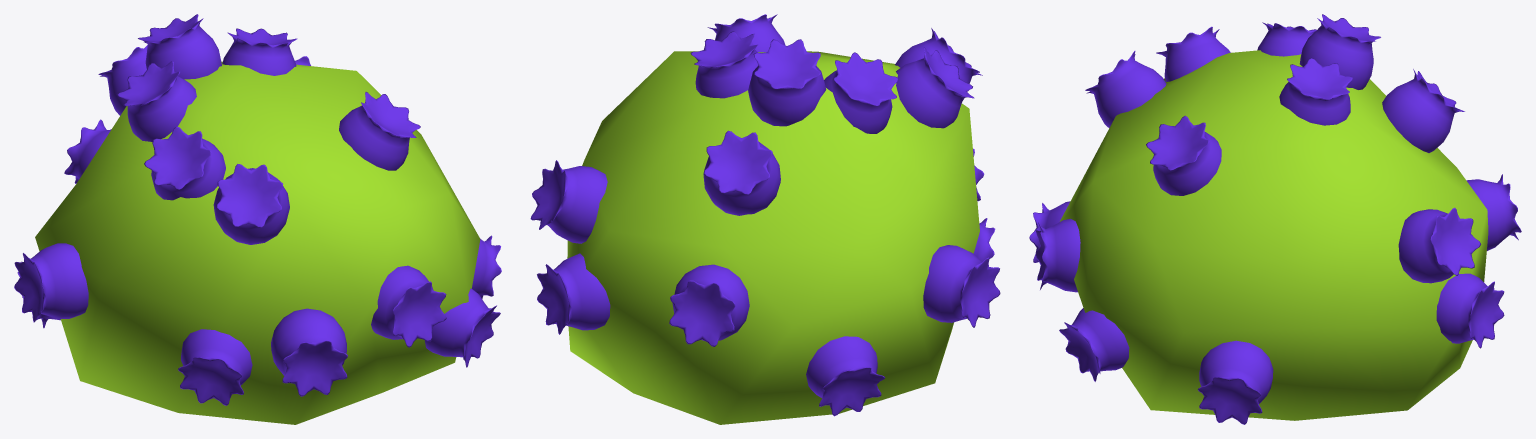
File: object_landscape_plant_berry_bush_small_001.glb
3 views of the same model, side by side, from view 1: azimuth 30°, elevation 25°; view 2: azimuth 150°, elevation 25°; view 3: azimuth 270°, elevation 25° (orthographic). The views are drawn at different scales.
Parts seen in each view (by area): view 1: object_landscape_plant_berry_bush_small_001; view 2: object_landscape_plant_berry_bush_small_001; view 3: object_landscape_plant_berry_bush_small_001.
Part boxes in pixels (x1,y1,x2,y2): object_landscape_plant_berry_bush_small_001: (14,14,501,424); object_landscape_plant_berry_bush_small_001: (530,14,1000,424); object_landscape_plant_berry_bush_small_001: (1029,14,1521,424).
Bounding box in the file's own units: 0.2098 × 0.1457 × 0.2118.
